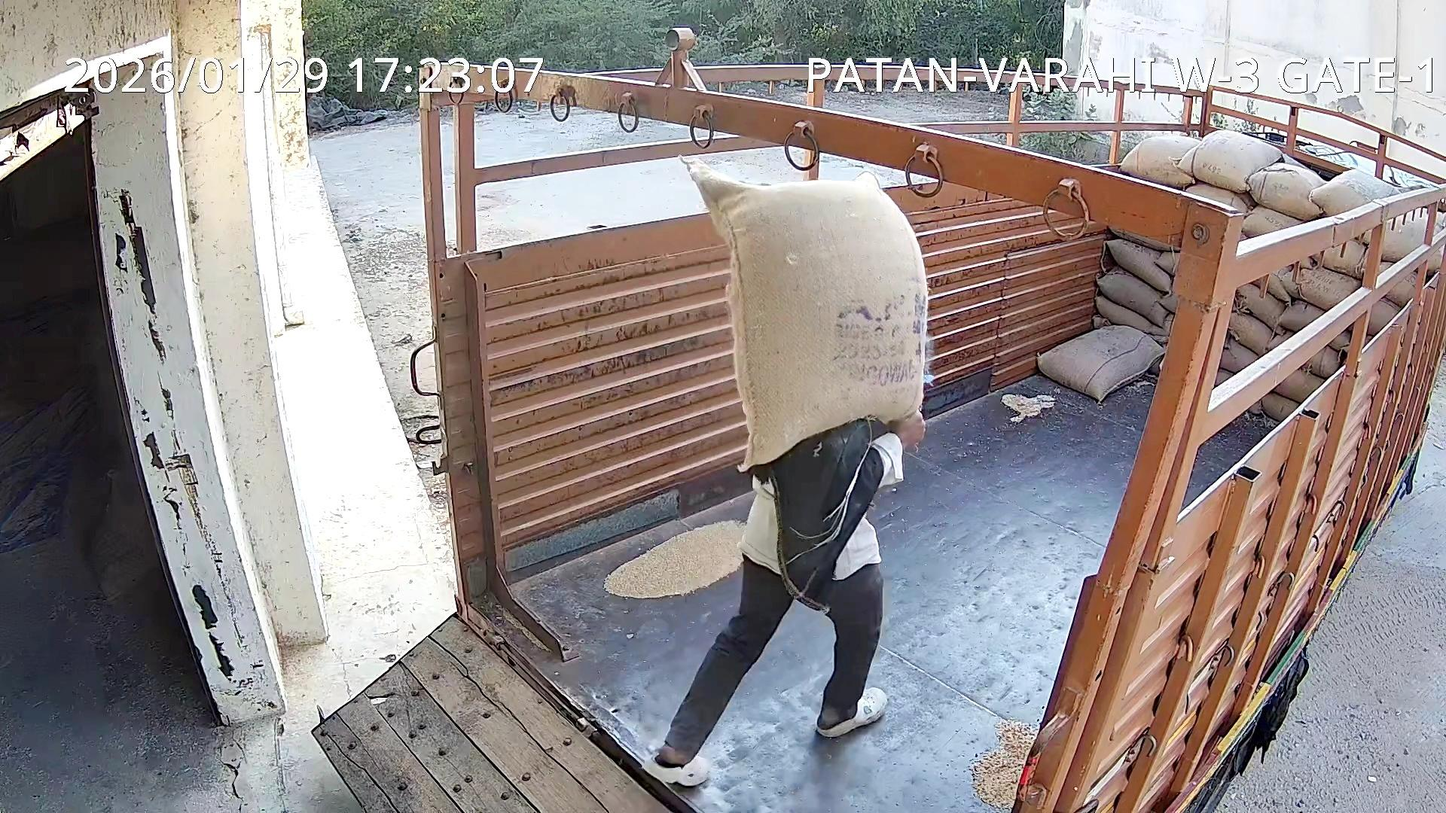Sack: (680, 158, 928, 470)
